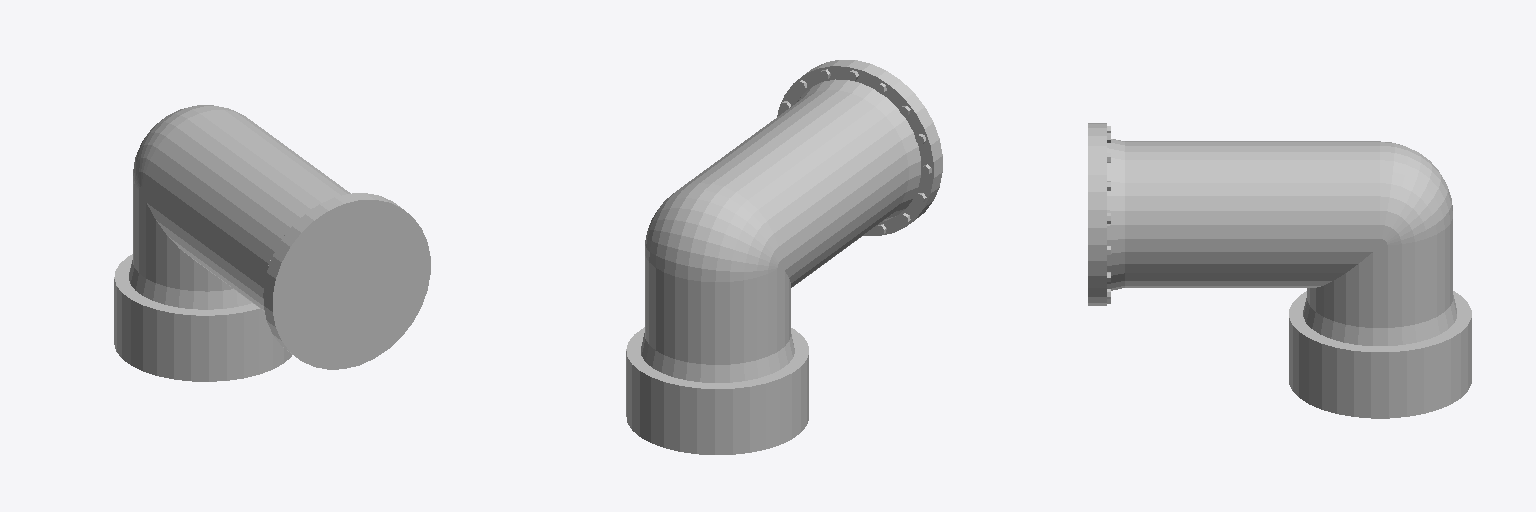
File: pipeworks_spigot.obj
3 renders of one model, left to right at view 1: azimuth 30°, elevation 25°; view 2: azimuth 150°, elevation 25°; view 3: azimuth 270°, elevation 25°, orthographic.
Visible parts, largest first — view 1: Pipe_Cylinder.002; view 2: Pipe_Cylinder.002; view 3: Pipe_Cylinder.002.
Part boxes in pixels (x1,y1,x2,y2): Pipe_Cylinder.002: (114, 105, 430, 381); Pipe_Cylinder.002: (626, 60, 942, 454); Pipe_Cylinder.002: (1088, 123, 1471, 418).
Size of the model in its own units: 0.3125 by 0.4688 by 0.6562.